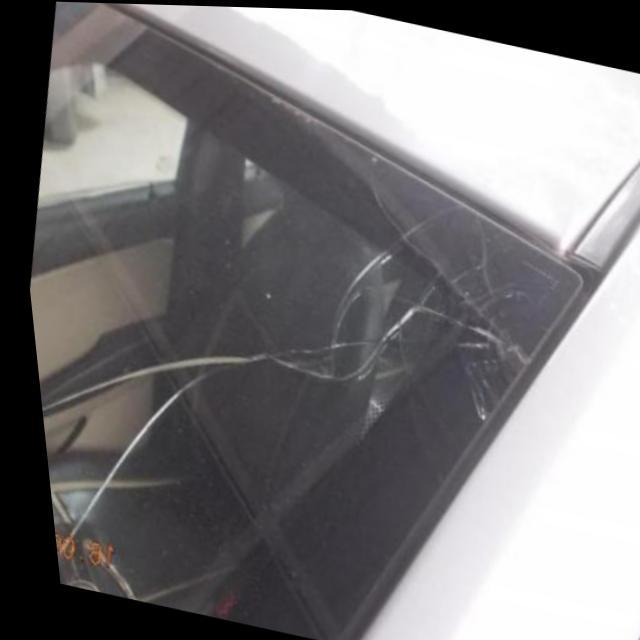glass shatter: (33, 195, 475, 561), (450, 276, 548, 422)
